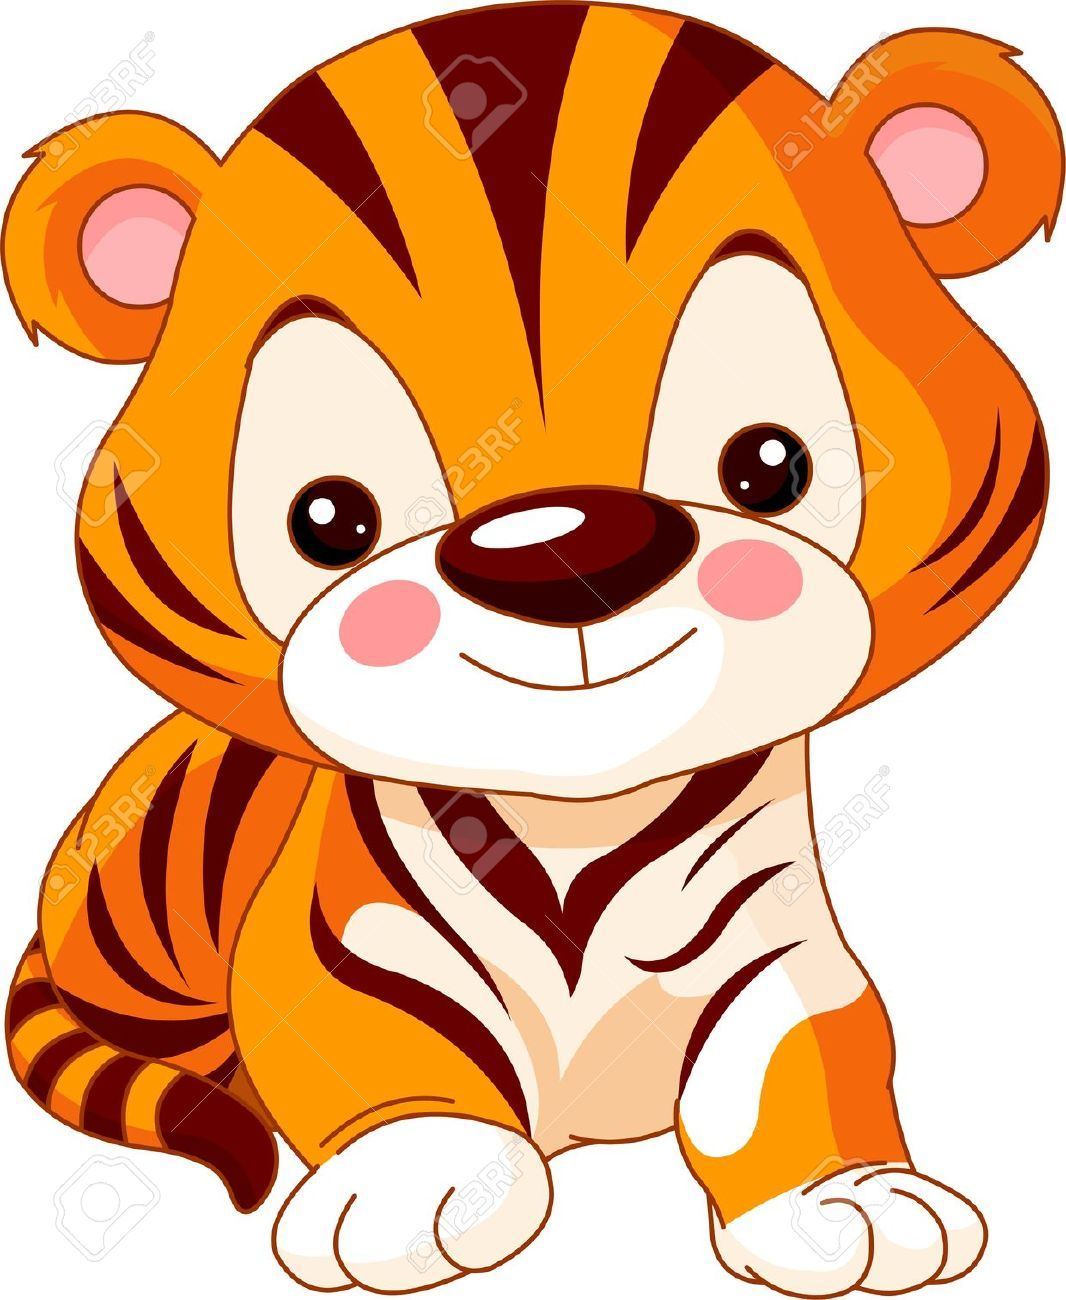Tigrew: (30, 15, 1010, 1287)
